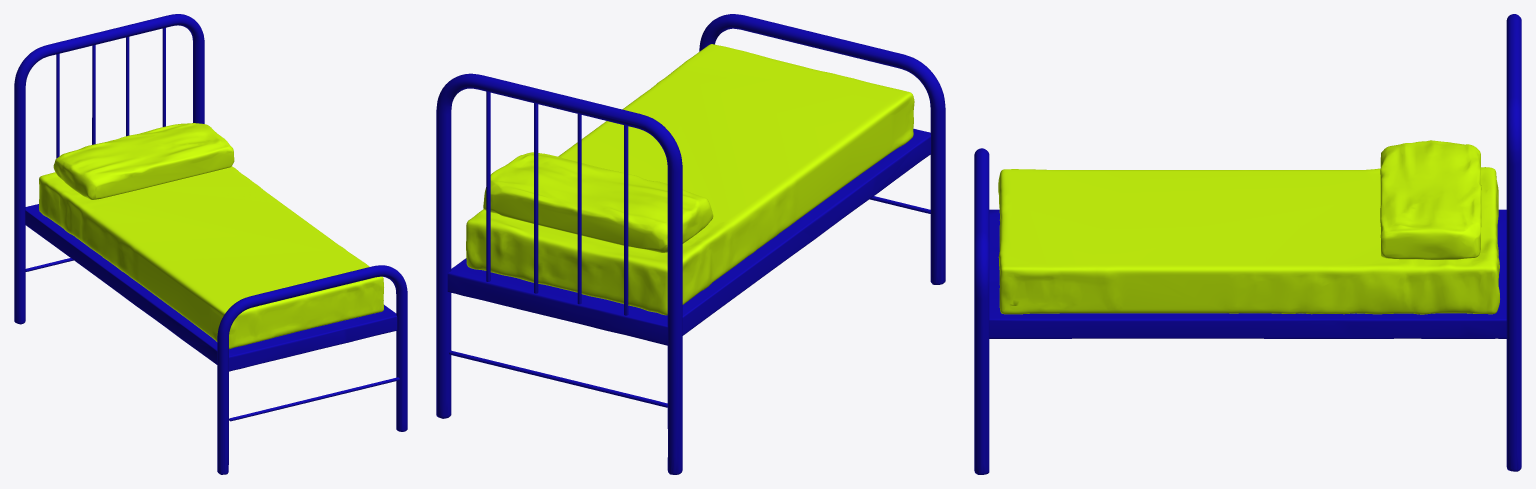
Rendered from bedhighpol.FBX.
3 renders of one model, left to right at view 1: azimuth 30°, elevation 25°; view 2: azimuth 150°, elevation 25°; view 3: azimuth 270°, elevation 25°, orthographic. The views are drawn at different scales.
Parts seen in each view (by area): view 1: Group15465, Group20190, Group49696; view 2: Group15465, Group20190, Group49696; view 3: Group15465, Group20190, Group49696.
Boxes of the visible parts, bbox=[...] form: Group15465: bbox=[39, 166, 383, 348]; Group20190: bbox=[14, 14, 407, 474]; Group49696: bbox=[53, 123, 234, 199]; Group15465: bbox=[466, 44, 914, 315]; Group20190: bbox=[436, 14, 945, 474]; Group49696: bbox=[483, 152, 713, 252]; Group15465: bbox=[998, 167, 1499, 314]; Group20190: bbox=[974, 14, 1521, 474]; Group49696: bbox=[1380, 140, 1481, 259].
Bounding box in the file's own units: 61.03 × 84.14 × 117.
